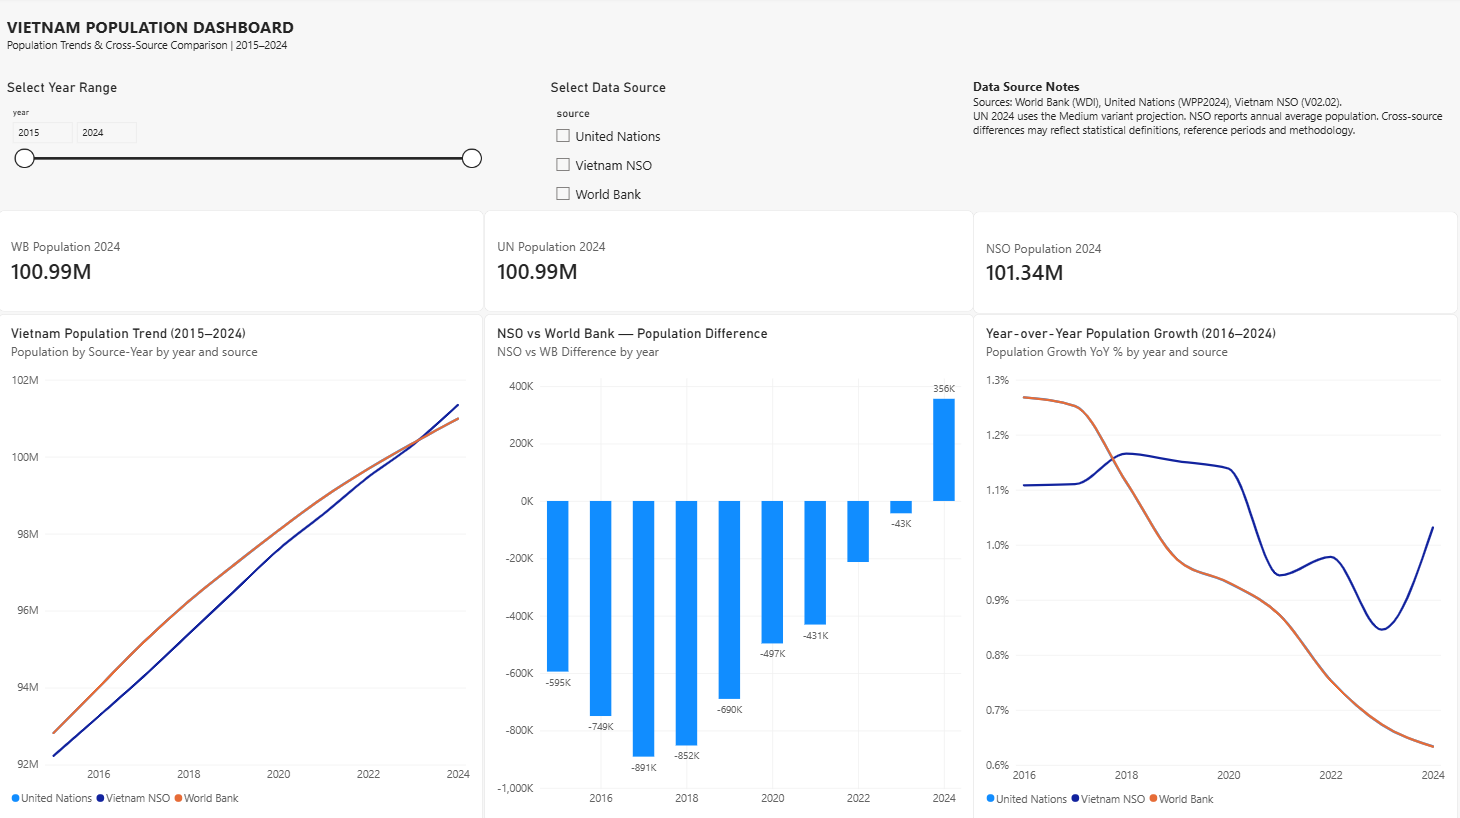

The dashboard page shown, as its layout file describes it:
{"tool":"powerbi","page":{"name":"Page 1","canvas":[1920,1080],"ordinal":0},"visuals":[{"type":"lineChart","title":"Vietnam Population Trend (2015–2024)","fields":{"Category":["PopulationObservations.year"],"Series":["PopulationObservations.source"],"Y":["PopulationObservations.Population by Source-Year"]},"box":[0,413.1,636.3,666.2],"z":0},{"type":"cardVisual","fields":{"Data":["PopulationObservations.WB Population 2024"]},"box":[0,276.7,637,133.7],"z":1},{"type":"cardVisual","fields":{"Data":["PopulationObservations.UN Population 2024"]},"box":[637,276.7,642.6,133.7],"z":2},{"type":"cardVisual","fields":{"Data":["PopulationObservations.NSO Population 2024"]},"box":[1278.4,278.4,636.3,134.5],"z":3},{"type":"clusteredColumnChart","title":"NSO vs World Bank — Population Difference","fields":{"Category":["PopulationObservations.year"],"Y":["PopulationObservations.NSO vs WB Difference"]},"box":[637,412.3,642.6,666.7],"z":4},{"type":"lineChart","title":"Year-over-Year Population Growth (2016–2024)","fields":{"Category":["PopulationObservations.year"],"Series":["PopulationObservations.source"],"Y":["PopulationObservations.Population Growth YoY %"]},"box":[1278.4,412.9,636.3,666.6],"z":5},{"type":"slicer","title":"Select Year Range","fields":{"Values":["PopulationObservations.year"]},"box":[11.5,104.9,626.2,149.2],"z":6},{"type":"slicer","title":"Select Data Source","fields":{"Values":["PopulationObservations.source"]},"box":[725.4,104.2,553,174.2],"z":7},{"type":"textbox","box":[11.5,21.3,378.7,83.6],"z":8},{"type":"textbox","box":[1278,104,636,173],"z":9}]}

Visuals, with their boxes in screenshot pixels (x1, y1, x2, y2), scaled from the page's 1920x1080 canvas onto the 1460x818 screenshot:
"Vietnam Population Trend (2015–2024)" lineChart: {"x1": 0, "y1": 313, "x2": 484, "y2": 817}
cardVisual - PopulationObservations.WB Population 2024: {"x1": 0, "y1": 210, "x2": 484, "y2": 311}
cardVisual - PopulationObservations.UN Population 2024: {"x1": 484, "y1": 210, "x2": 973, "y2": 311}
cardVisual - PopulationObservations.NSO Population 2024: {"x1": 972, "y1": 211, "x2": 1456, "y2": 313}
"NSO vs World Bank — Population Difference" clusteredColumnChart: {"x1": 484, "y1": 312, "x2": 973, "y2": 817}
"Year-over-Year Population Growth (2016–2024)" lineChart: {"x1": 972, "y1": 313, "x2": 1456, "y2": 817}
"Select Year Range" slicer: {"x1": 9, "y1": 79, "x2": 485, "y2": 192}
"Select Data Source" slicer: {"x1": 552, "y1": 79, "x2": 972, "y2": 211}
textbox: {"x1": 9, "y1": 16, "x2": 297, "y2": 79}
textbox: {"x1": 972, "y1": 79, "x2": 1455, "y2": 210}
